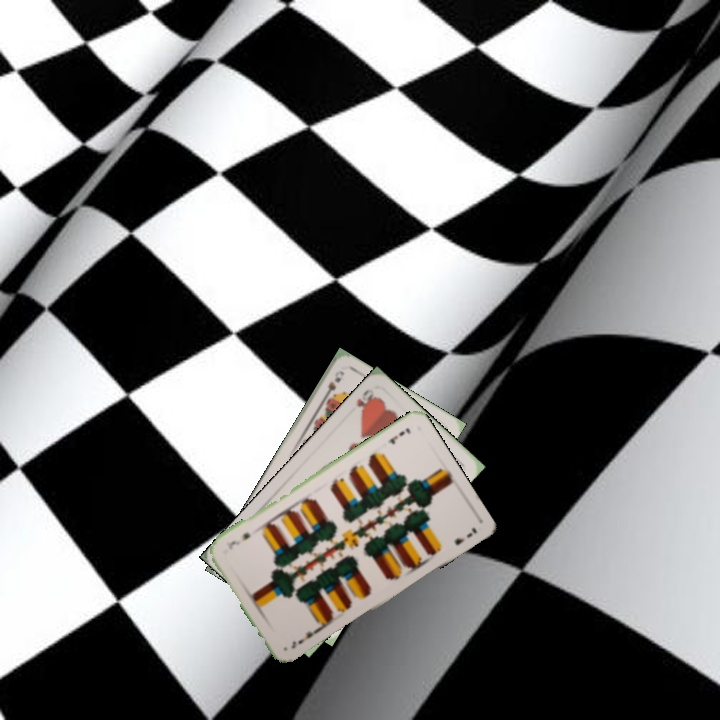E7: (287, 624, 322, 651), (383, 424, 413, 447)
HO: (352, 385, 378, 415)
S9: (319, 366, 347, 404)
